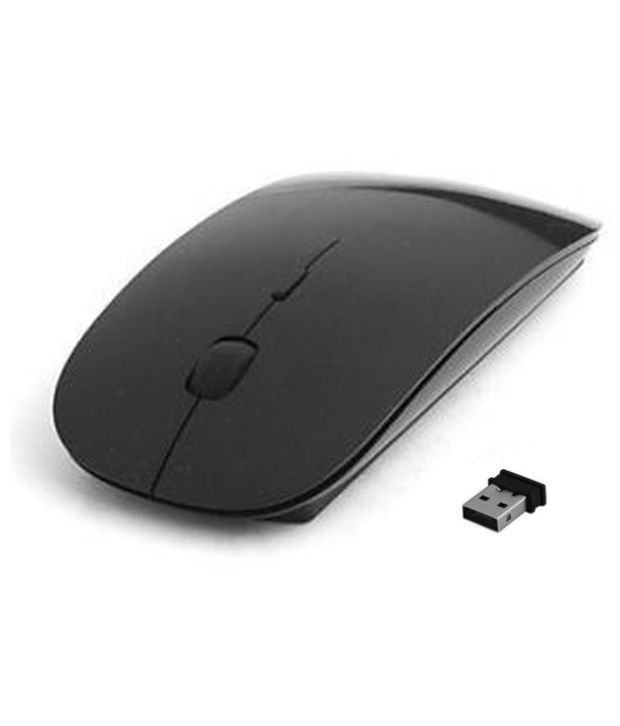Mouse: (45, 157, 608, 543)
